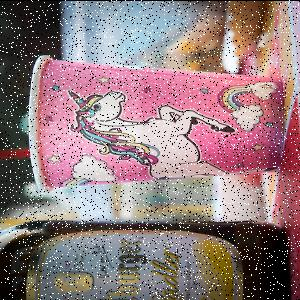Cup: (28, 55, 285, 193)
